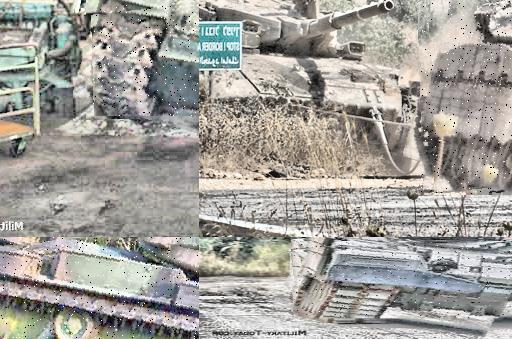tanks: (200, 1, 427, 163), (1, 238, 200, 339), (422, 1, 512, 193), (294, 242, 512, 319), (94, 6, 200, 117)
